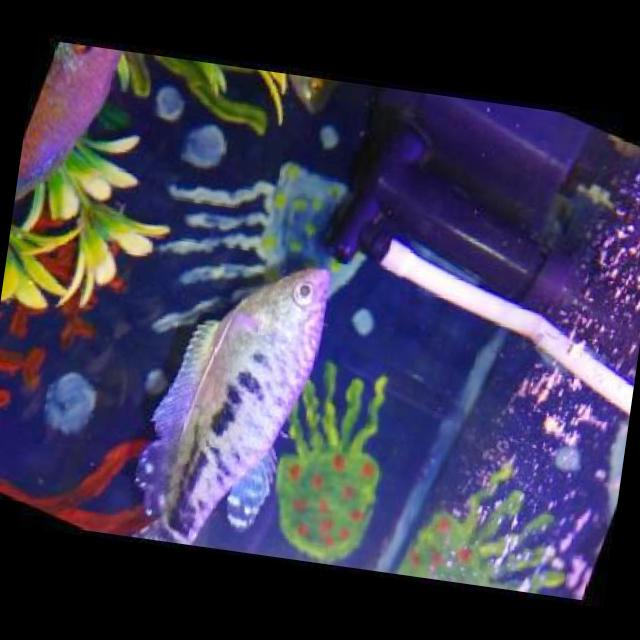Gourami: (120, 241, 350, 559)
